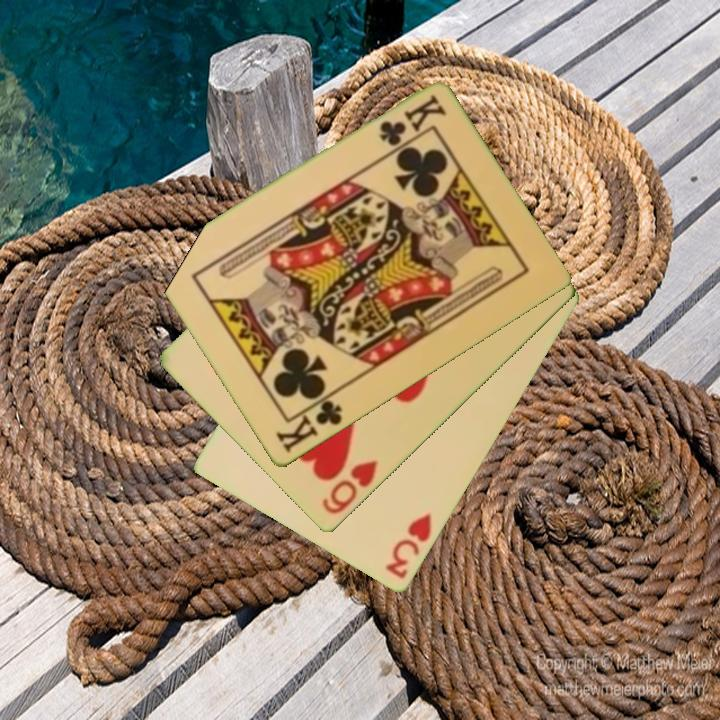3h: (381, 509, 435, 583)
6h: (318, 457, 381, 518)
Kc: (272, 390, 346, 457), (375, 91, 448, 150)
